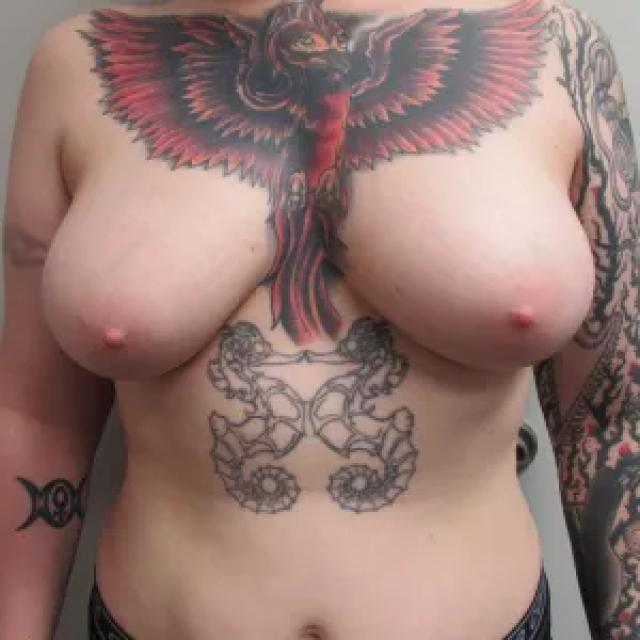Seno ileso: (325, 147, 603, 400), (34, 150, 281, 405)
